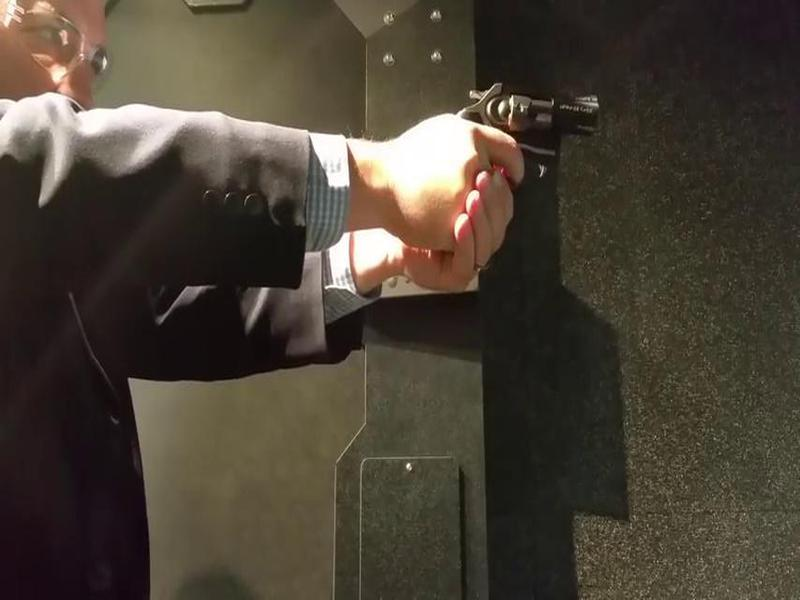Revolver: (442, 74, 604, 221)
